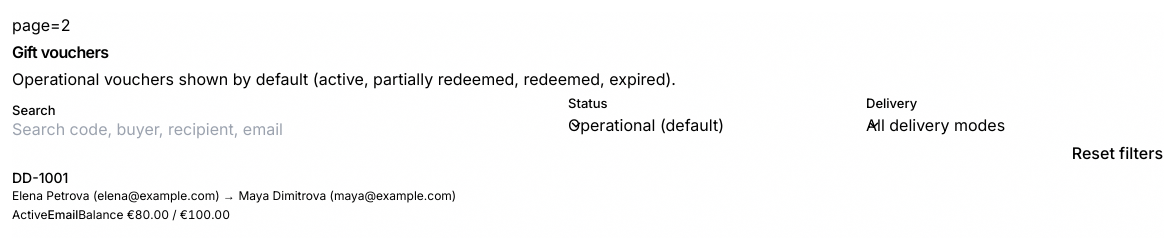
it: OpsGiftVouchers collection migration › updates search in the URL, resets page, and refetches with the same param name
Type "DD-1001" into the field labelled "Search" at x=290, y=129, box [12,119,568,139]
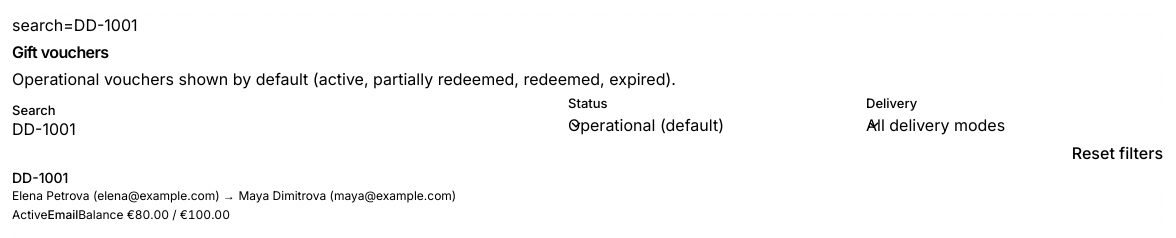
Now the text with test id "gv-search" reads "search=DD-1001", box [12,15,138,35]
Now the text with test id "gv-search" no longer shows "page="
